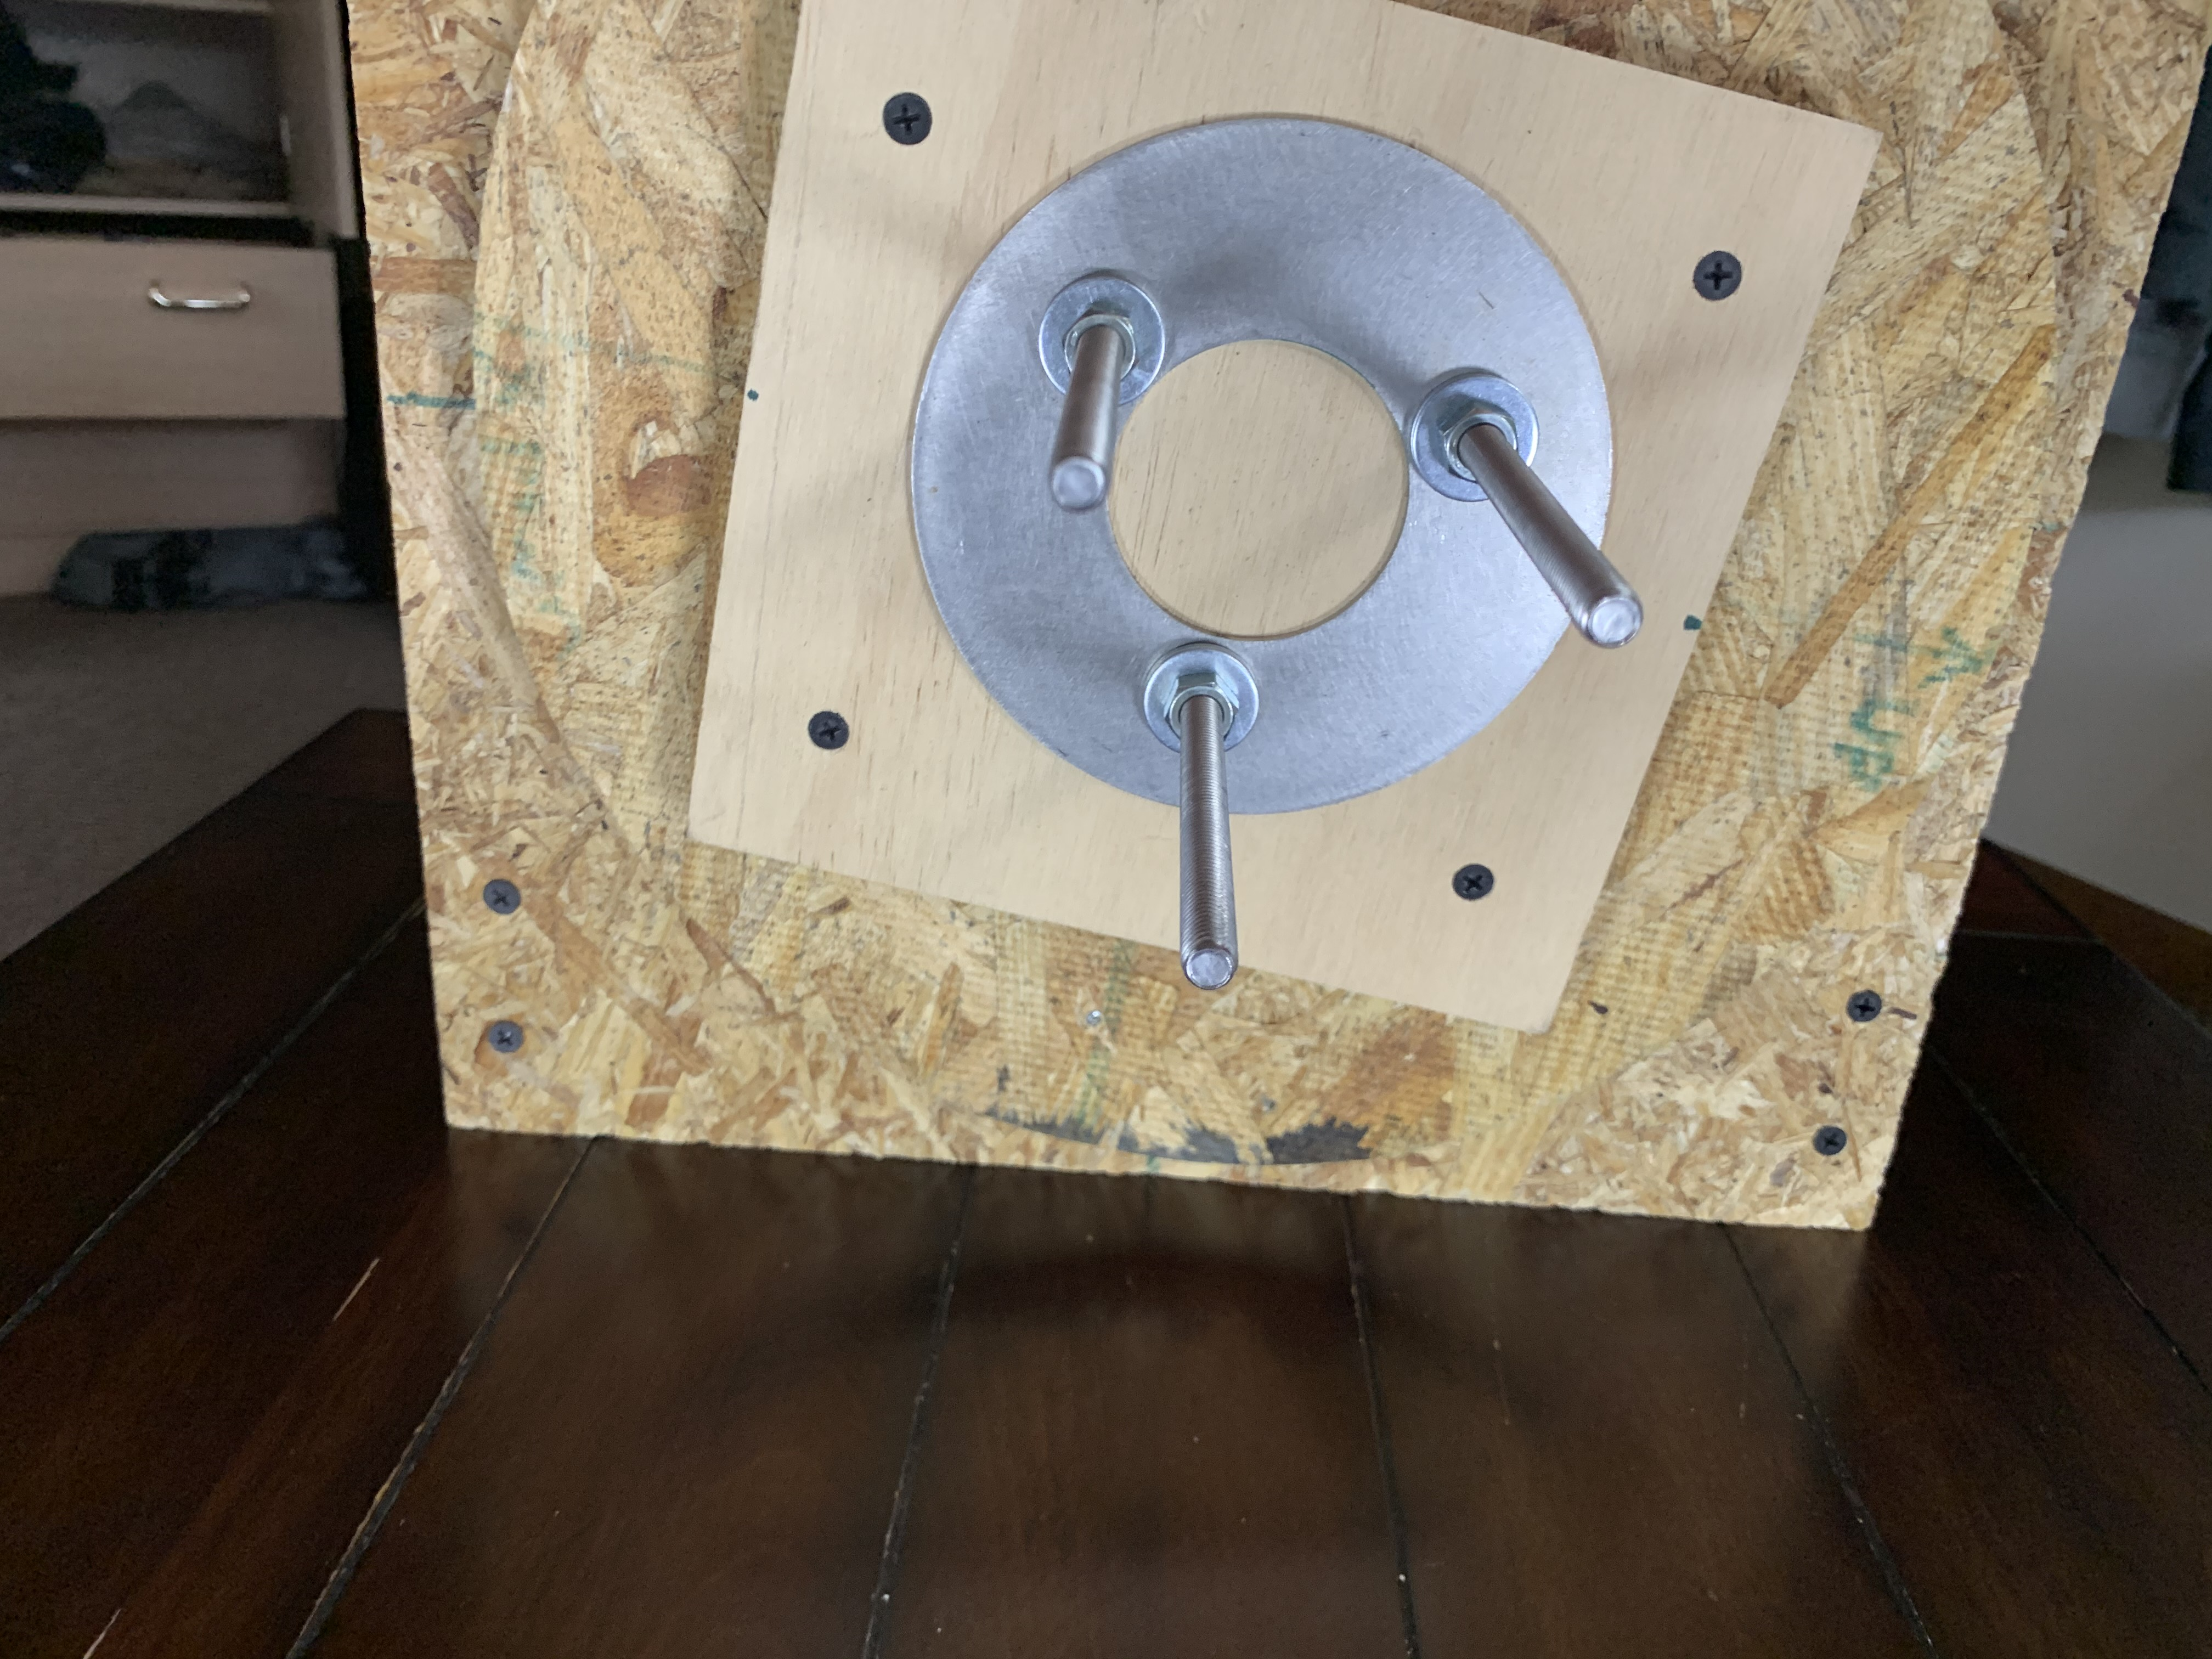bolt: (1035, 272, 1170, 408), (1406, 369, 1540, 504), (1137, 640, 1263, 753)
